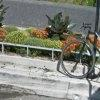Bicycle: (57, 18, 99, 84)
